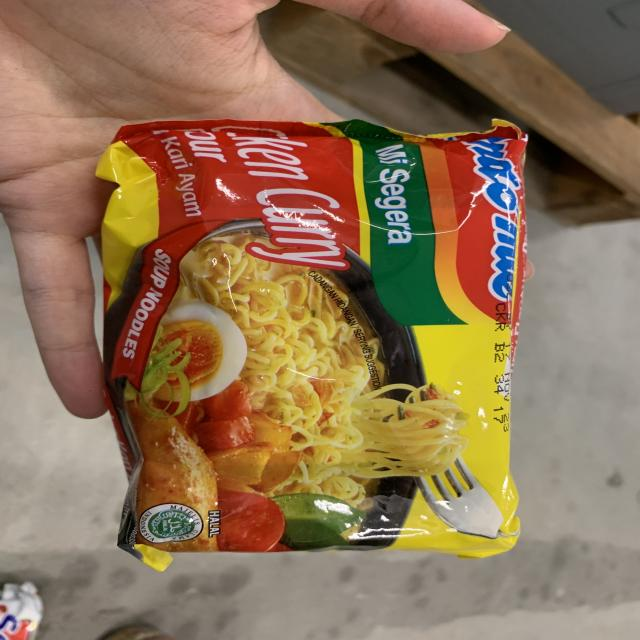object_name: (106, 129, 518, 547)
